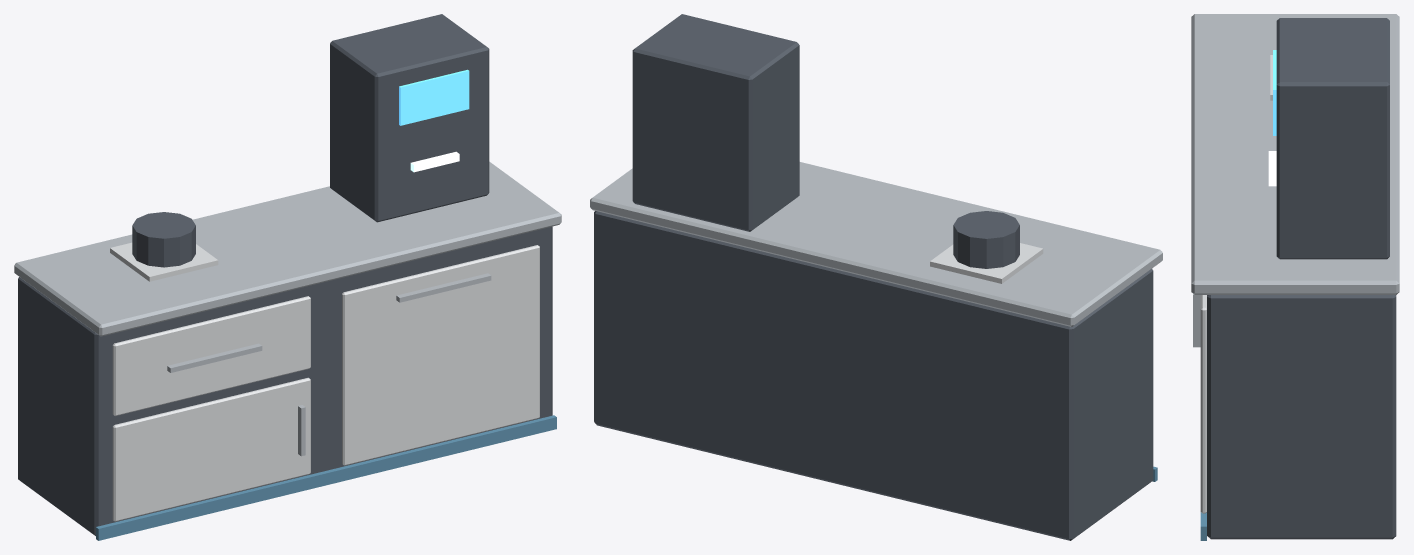
Rendered from spaceship-deck-kit-galley-unit-bb1593c3__12586.glb.
3 views of the same model, side by side, from view 1: azimuth 30°, elevation 25°; view 2: azimuth 150°, elevation 25°; view 3: azimuth 270°, elevation 25° (orthographic). The views are drawn at different scales.
Parts seen in each view (by area): view 1: galley-unit, galley-door/hull, galley-drawer/hull, galley-drawer/steel; view 2: galley-unit; view 3: galley-unit, galley-door/steel.
Boxes of the visible parts, box(x1,y1,x2,y2) form: galley-unit: box(14, 14, 561, 540); galley-door/hull: box(112, 377, 310, 521); galley-drawer/hull: box(112, 296, 310, 415); galley-drawer/steel: box(167, 343, 262, 372); galley-unit: box(590, 14, 1162, 540); galley-unit: box(1191, 14, 1399, 540); galley-door/steel: box(1193, 300, 1200, 347).
Bounding box in the file's own units: 2.02 × 1.53 × 0.6599.
